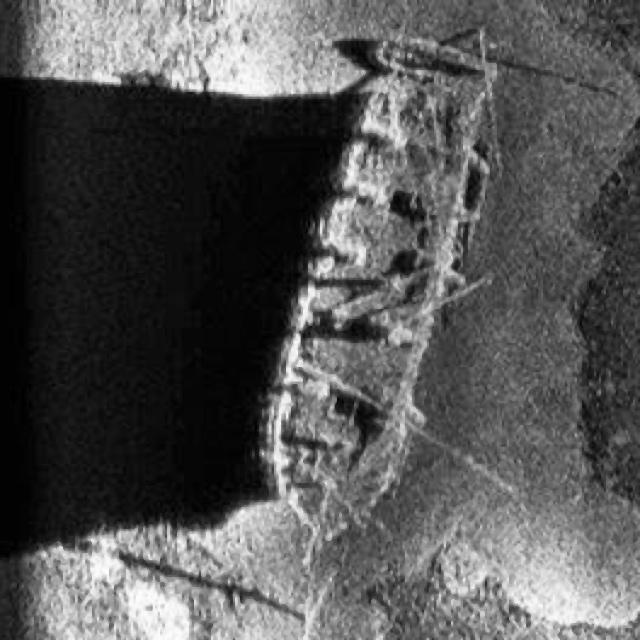Ship: (253, 22, 504, 557)
